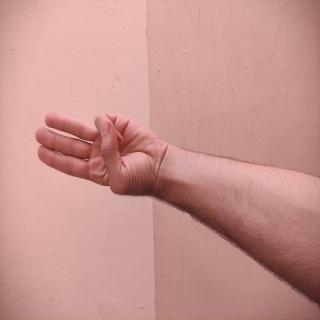THA: (88, 44, 158, 234)
